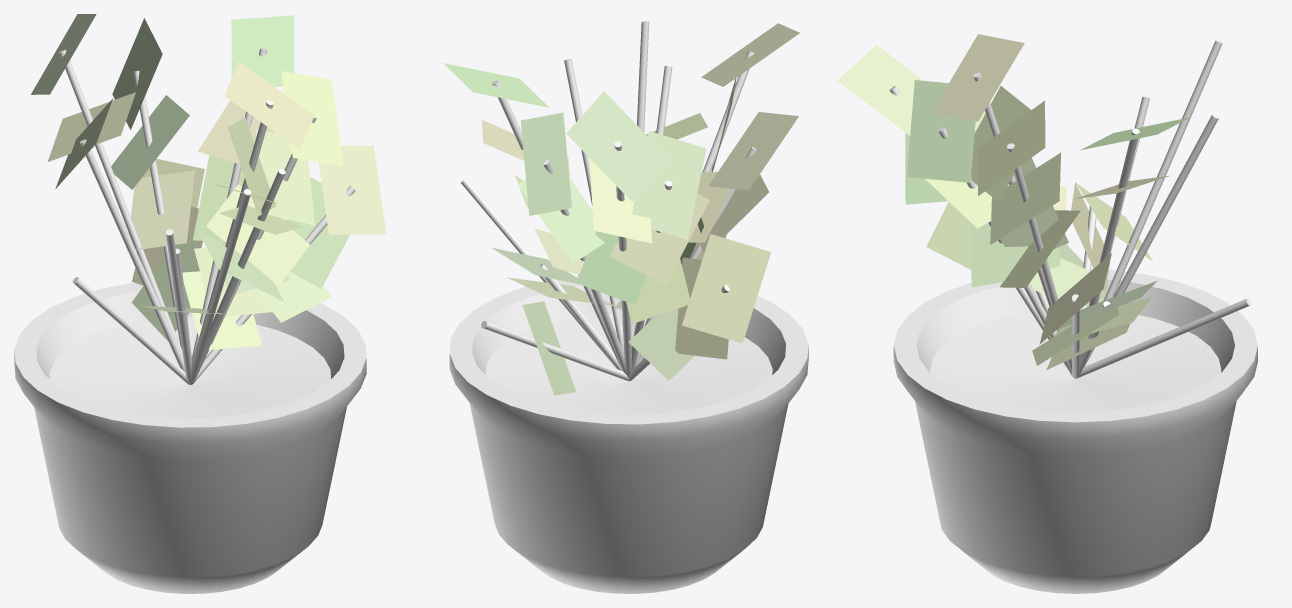
The model's file is camp_planter.glb.
3 renders of one model, left to right at view 1: azimuth 30°, elevation 25°; view 2: azimuth 150°, elevation 25°; view 3: azimuth 270°, elevation 25°, orthographic. The views are drawn at different scales.
Visible parts, largest first — view 1: camp_planter__glazed_ceramic, camp_planter__foliage_tree_leaf, camp_planter__vine; view 2: camp_planter__glazed_ceramic, camp_planter__foliage_tree_leaf, camp_planter__vine; view 3: camp_planter__glazed_ceramic, camp_planter__foliage_tree_leaf, camp_planter__vine.
Boxes of the visible parts, <box> form: camp_planter__glazed_ceramic: <box>14,282,366,593</box>; camp_planter__foliage_tree_leaf: <box>31,14,386,349</box>; camp_planter__vine: <box>59,48,355,384</box>; camp_planter__glazed_ceramic: <box>449,276,808,593</box>; camp_planter__foliage_tree_leaf: <box>443,23,799,395</box>; camp_planter__vine: <box>461,21,756,381</box>; camp_planter__glazed_ceramic: <box>893,269,1257,593</box>; camp_planter__foliage_tree_leaf: <box>837,34,1190,369</box>; camp_planter__vine: <box>889,40,1251,378</box>.
Size of what is drawn, in the model's own units: 1.28 by 1.77 by 1.36.
